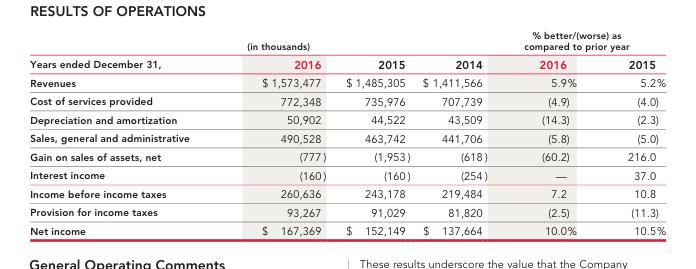table: (29, 28, 665, 237)
table column: (29, 28, 217, 237), (217, 28, 335, 237), (505, 28, 601, 237), (415, 28, 505, 237), (335, 28, 415, 237), (601, 28, 665, 237)
table column header: (29, 28, 665, 73)
table row: (29, 28, 665, 54), (29, 54, 665, 73), (29, 73, 665, 92), (29, 110, 665, 129), (29, 147, 665, 166), (29, 184, 665, 203), (29, 92, 665, 110), (29, 129, 665, 147), (29, 166, 665, 184), (29, 203, 665, 221), (29, 221, 665, 237)
table spanning cell: (29, 28, 217, 73), (217, 28, 505, 54), (505, 28, 665, 54)
